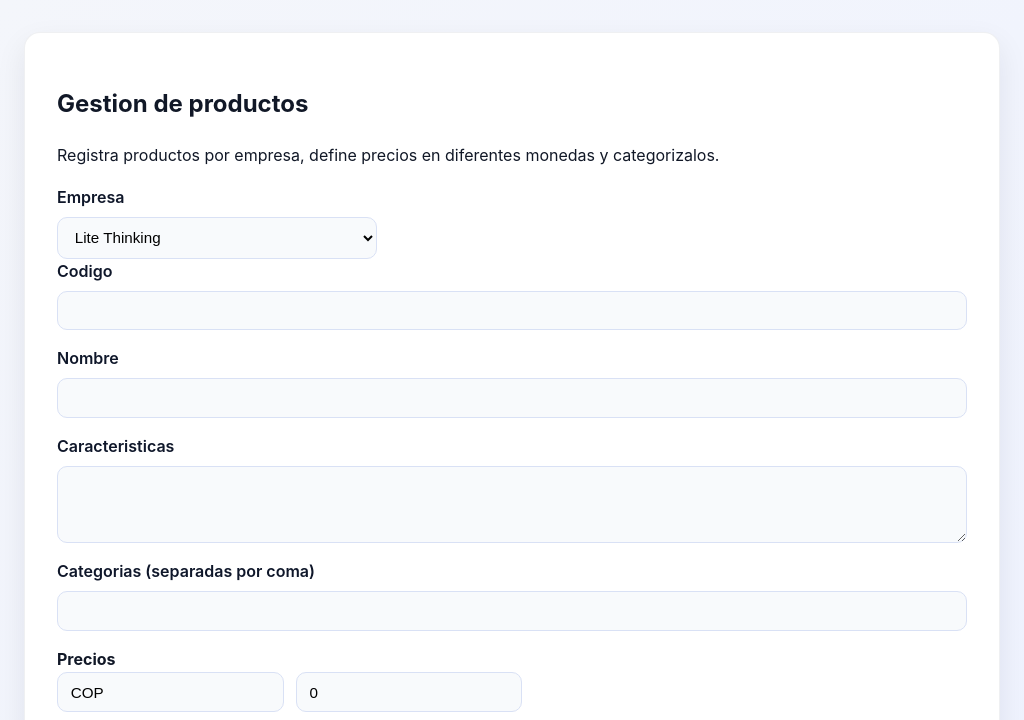
ProductosPage › lista productos y permite crear uno nuevo
Type "PROD-02" into the field labelled "Codigo" at (512, 310), box [57, 290, 967, 330]
Type "Mouse MX" into the field labelled "Nombre" at (512, 398), box [57, 378, 967, 418]
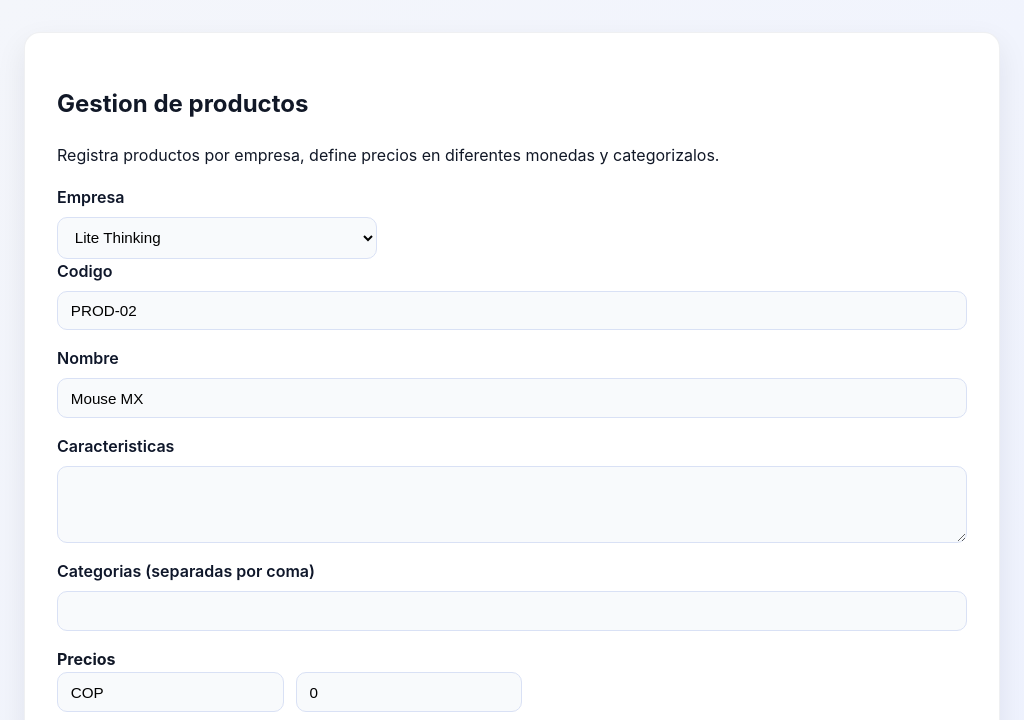
Type "Inalambrico" into the text box labelled "Caracteristicas" at (512, 504), box [57, 466, 967, 543]
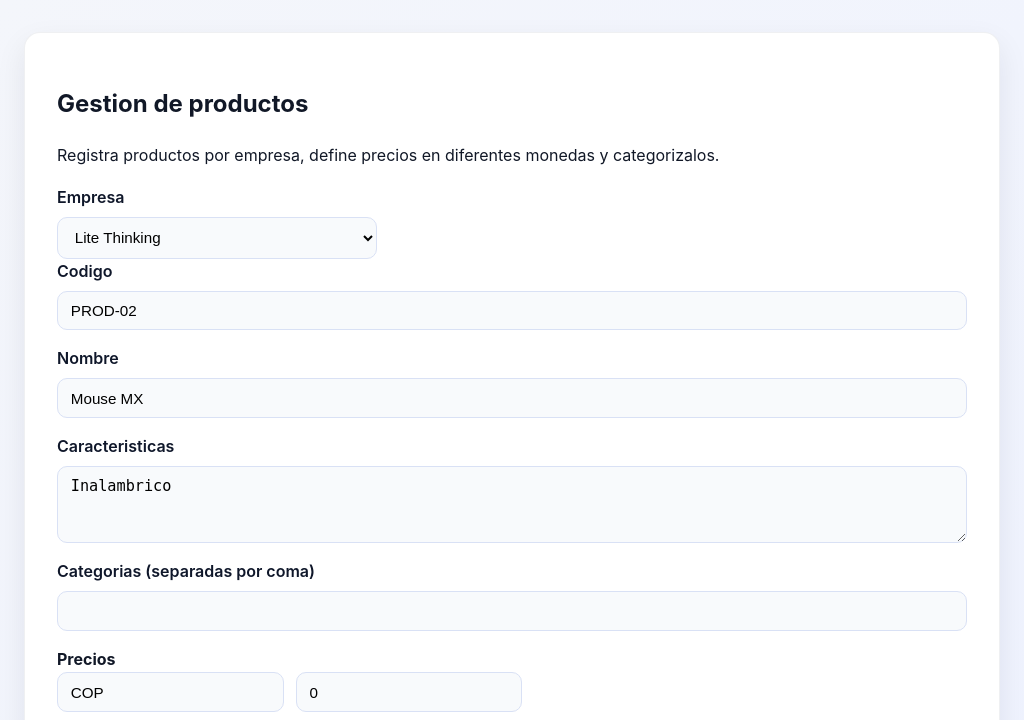
Type "Perifericos" into the field labelled "Categorias (separadas por coma)" at (512, 611), box [57, 591, 967, 631]
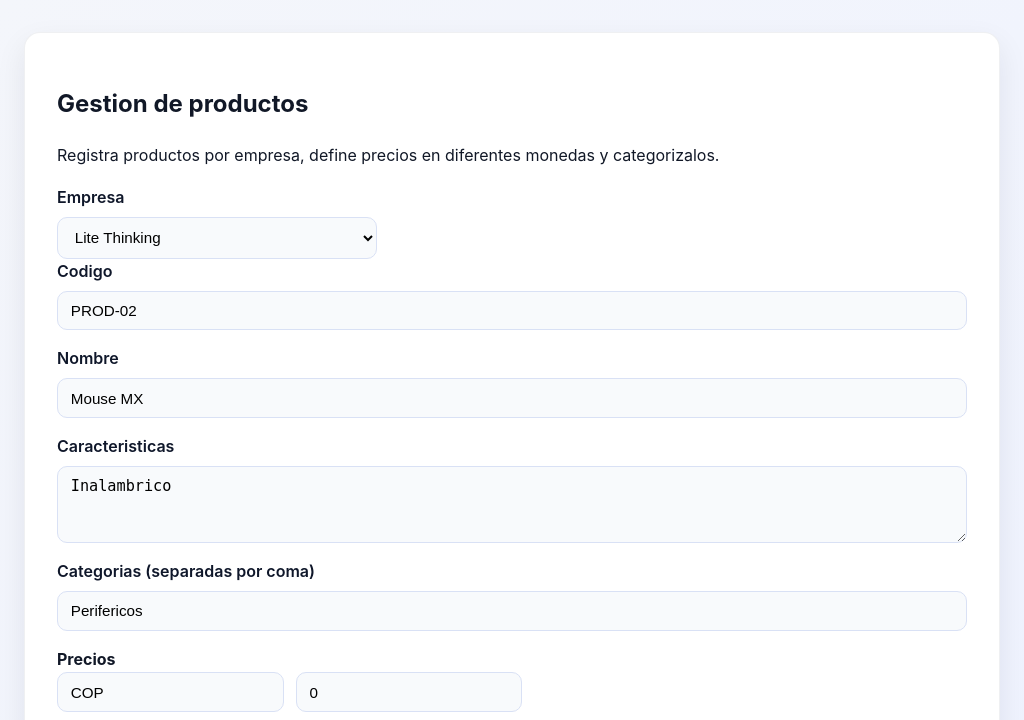
Replace the text in the field with placeholder "Moneda" with "USD" at (170, 692), box [57, 672, 284, 712]
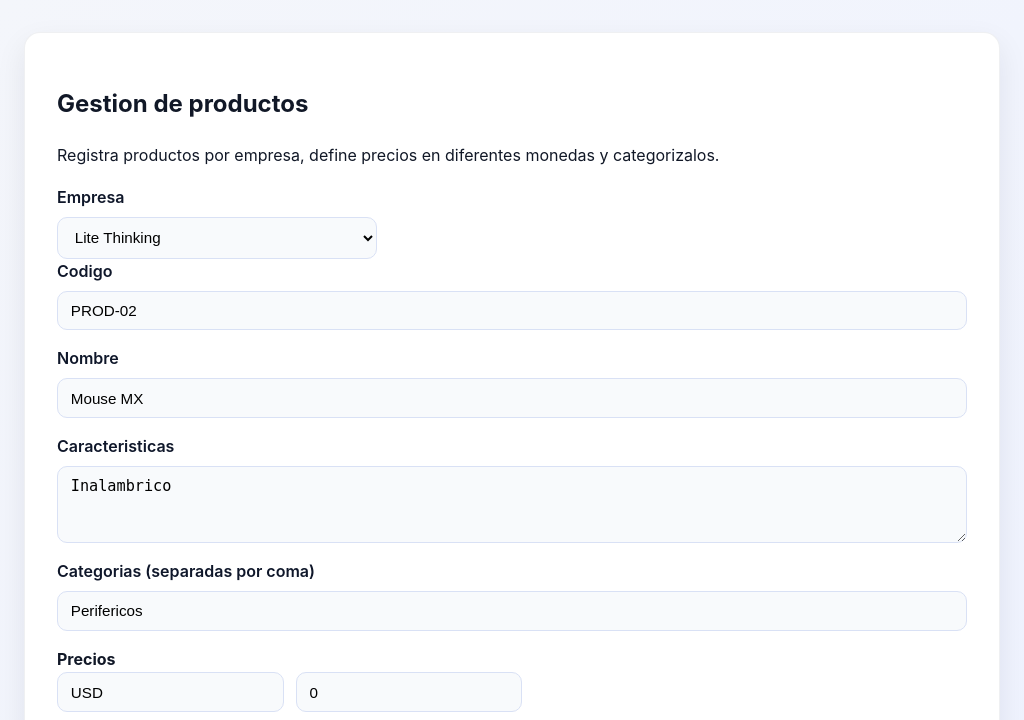
Replace the text in the number field with placeholder "Valor" with "99" at (409, 692), box [296, 672, 522, 712]
(page scrolled)
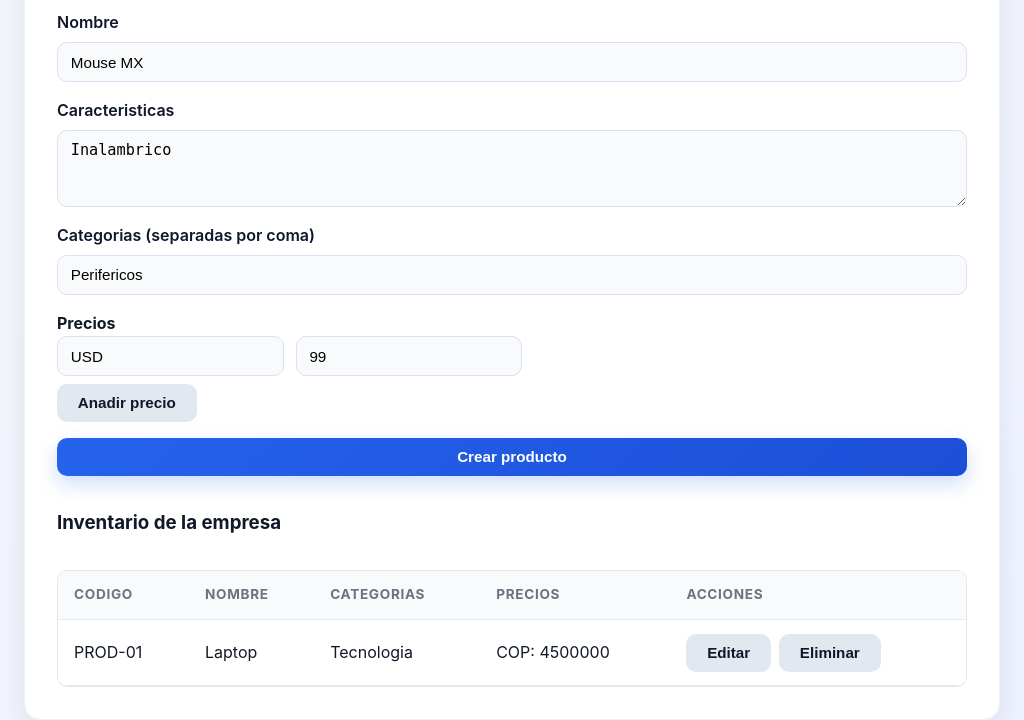
Click the button "Crear producto" at (512, 457), box [57, 438, 967, 476]
(page scrolled)
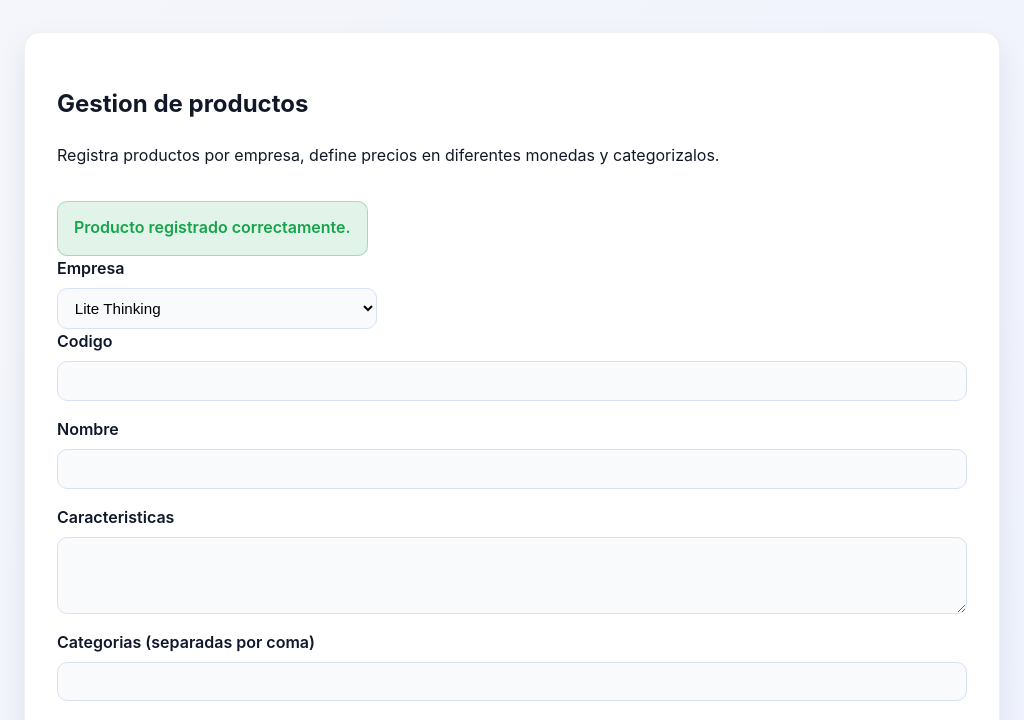
Expected: the text "Producto registrado correctamente." is shown, [57, 201, 368, 256]
